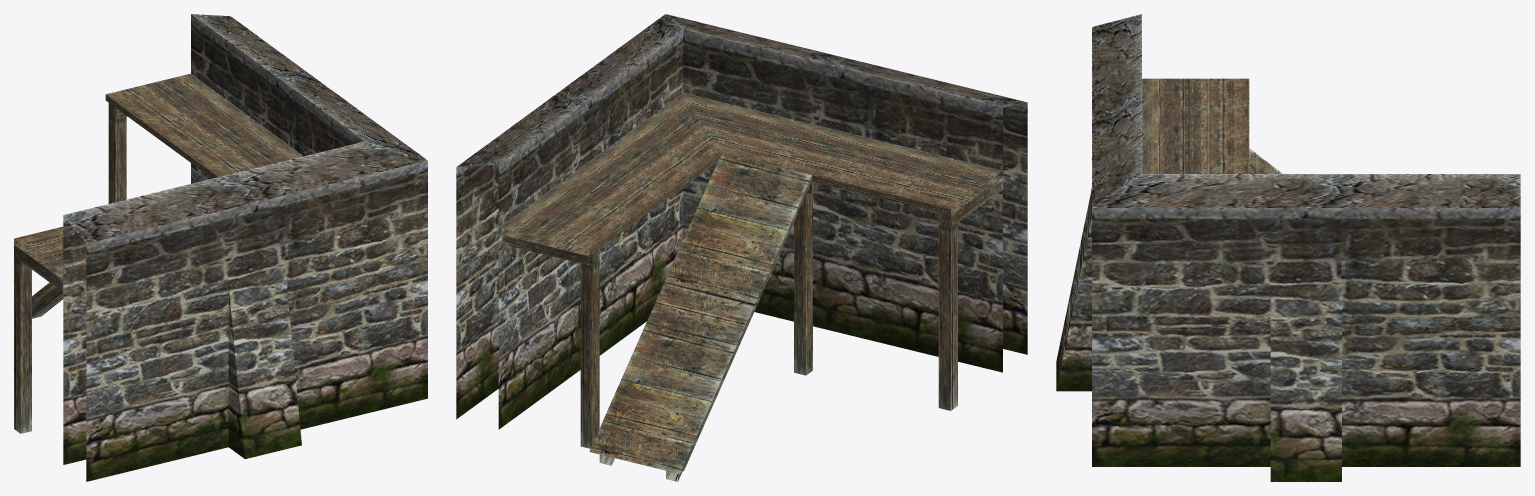
File: mhouse20c.glb
3 views of the same model, side by side, from view 1: azimuth 30°, elevation 25°; view 2: azimuth 150°, elevation 25°; view 3: azimuth 270°, elevation 25° (orthographic). The views are drawn at different scales.
Visible parts, largest first — view 1: mhouse20c-col; view 2: mhouse20c-col; view 3: mhouse20c-col.
Part boxes in pixels (x1,y1,x2,y2): mhouse20c-col: (14,14,427,481); mhouse20c-col: (456,14,1027,481); mhouse20c-col: (1056,14,1520,481).
Size of the model in its own units: 6.5 by 4.4 by 6.5.
Materials: 4 (4 with a texture image).
